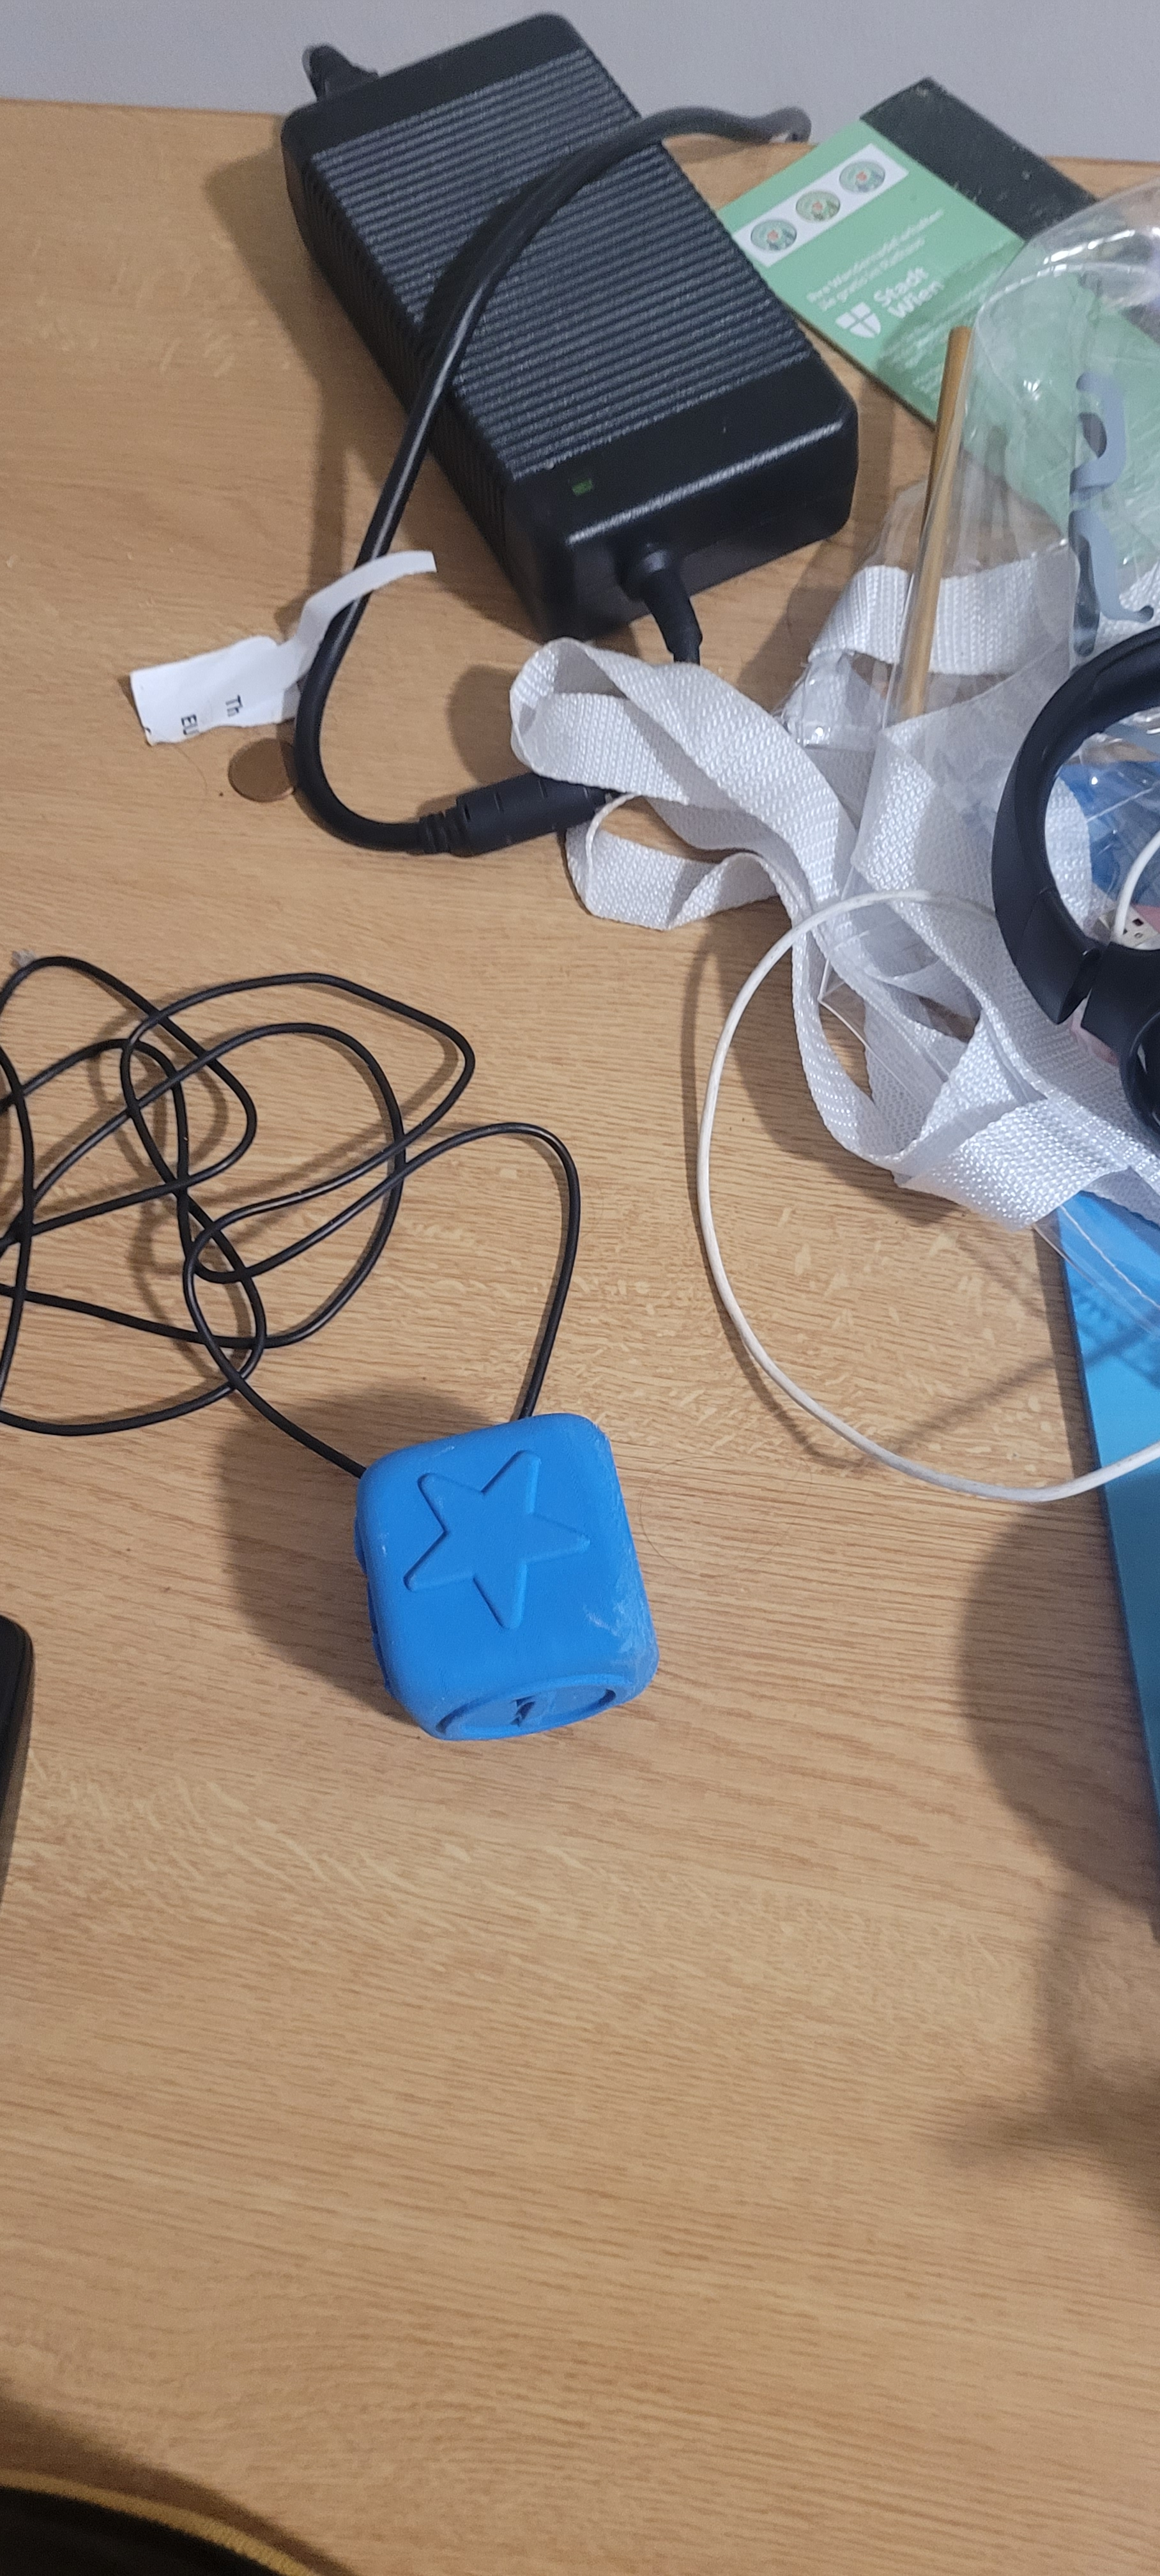Star: (381, 1467, 588, 1625)
